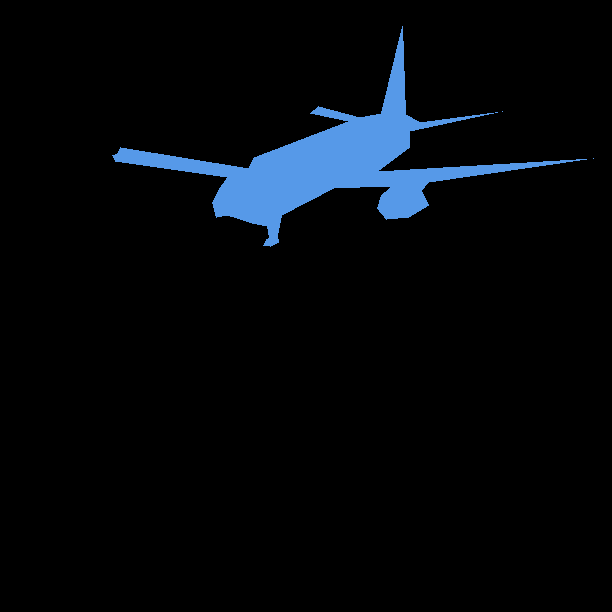Airplane: (112, 26, 594, 247)
